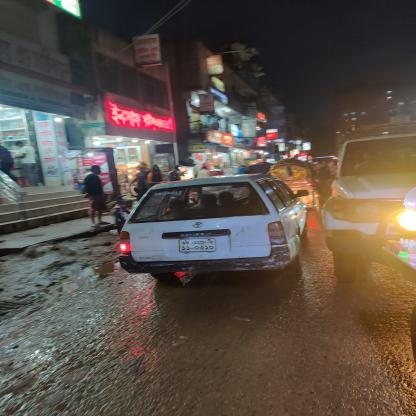license_plate: (176, 237, 222, 254)
